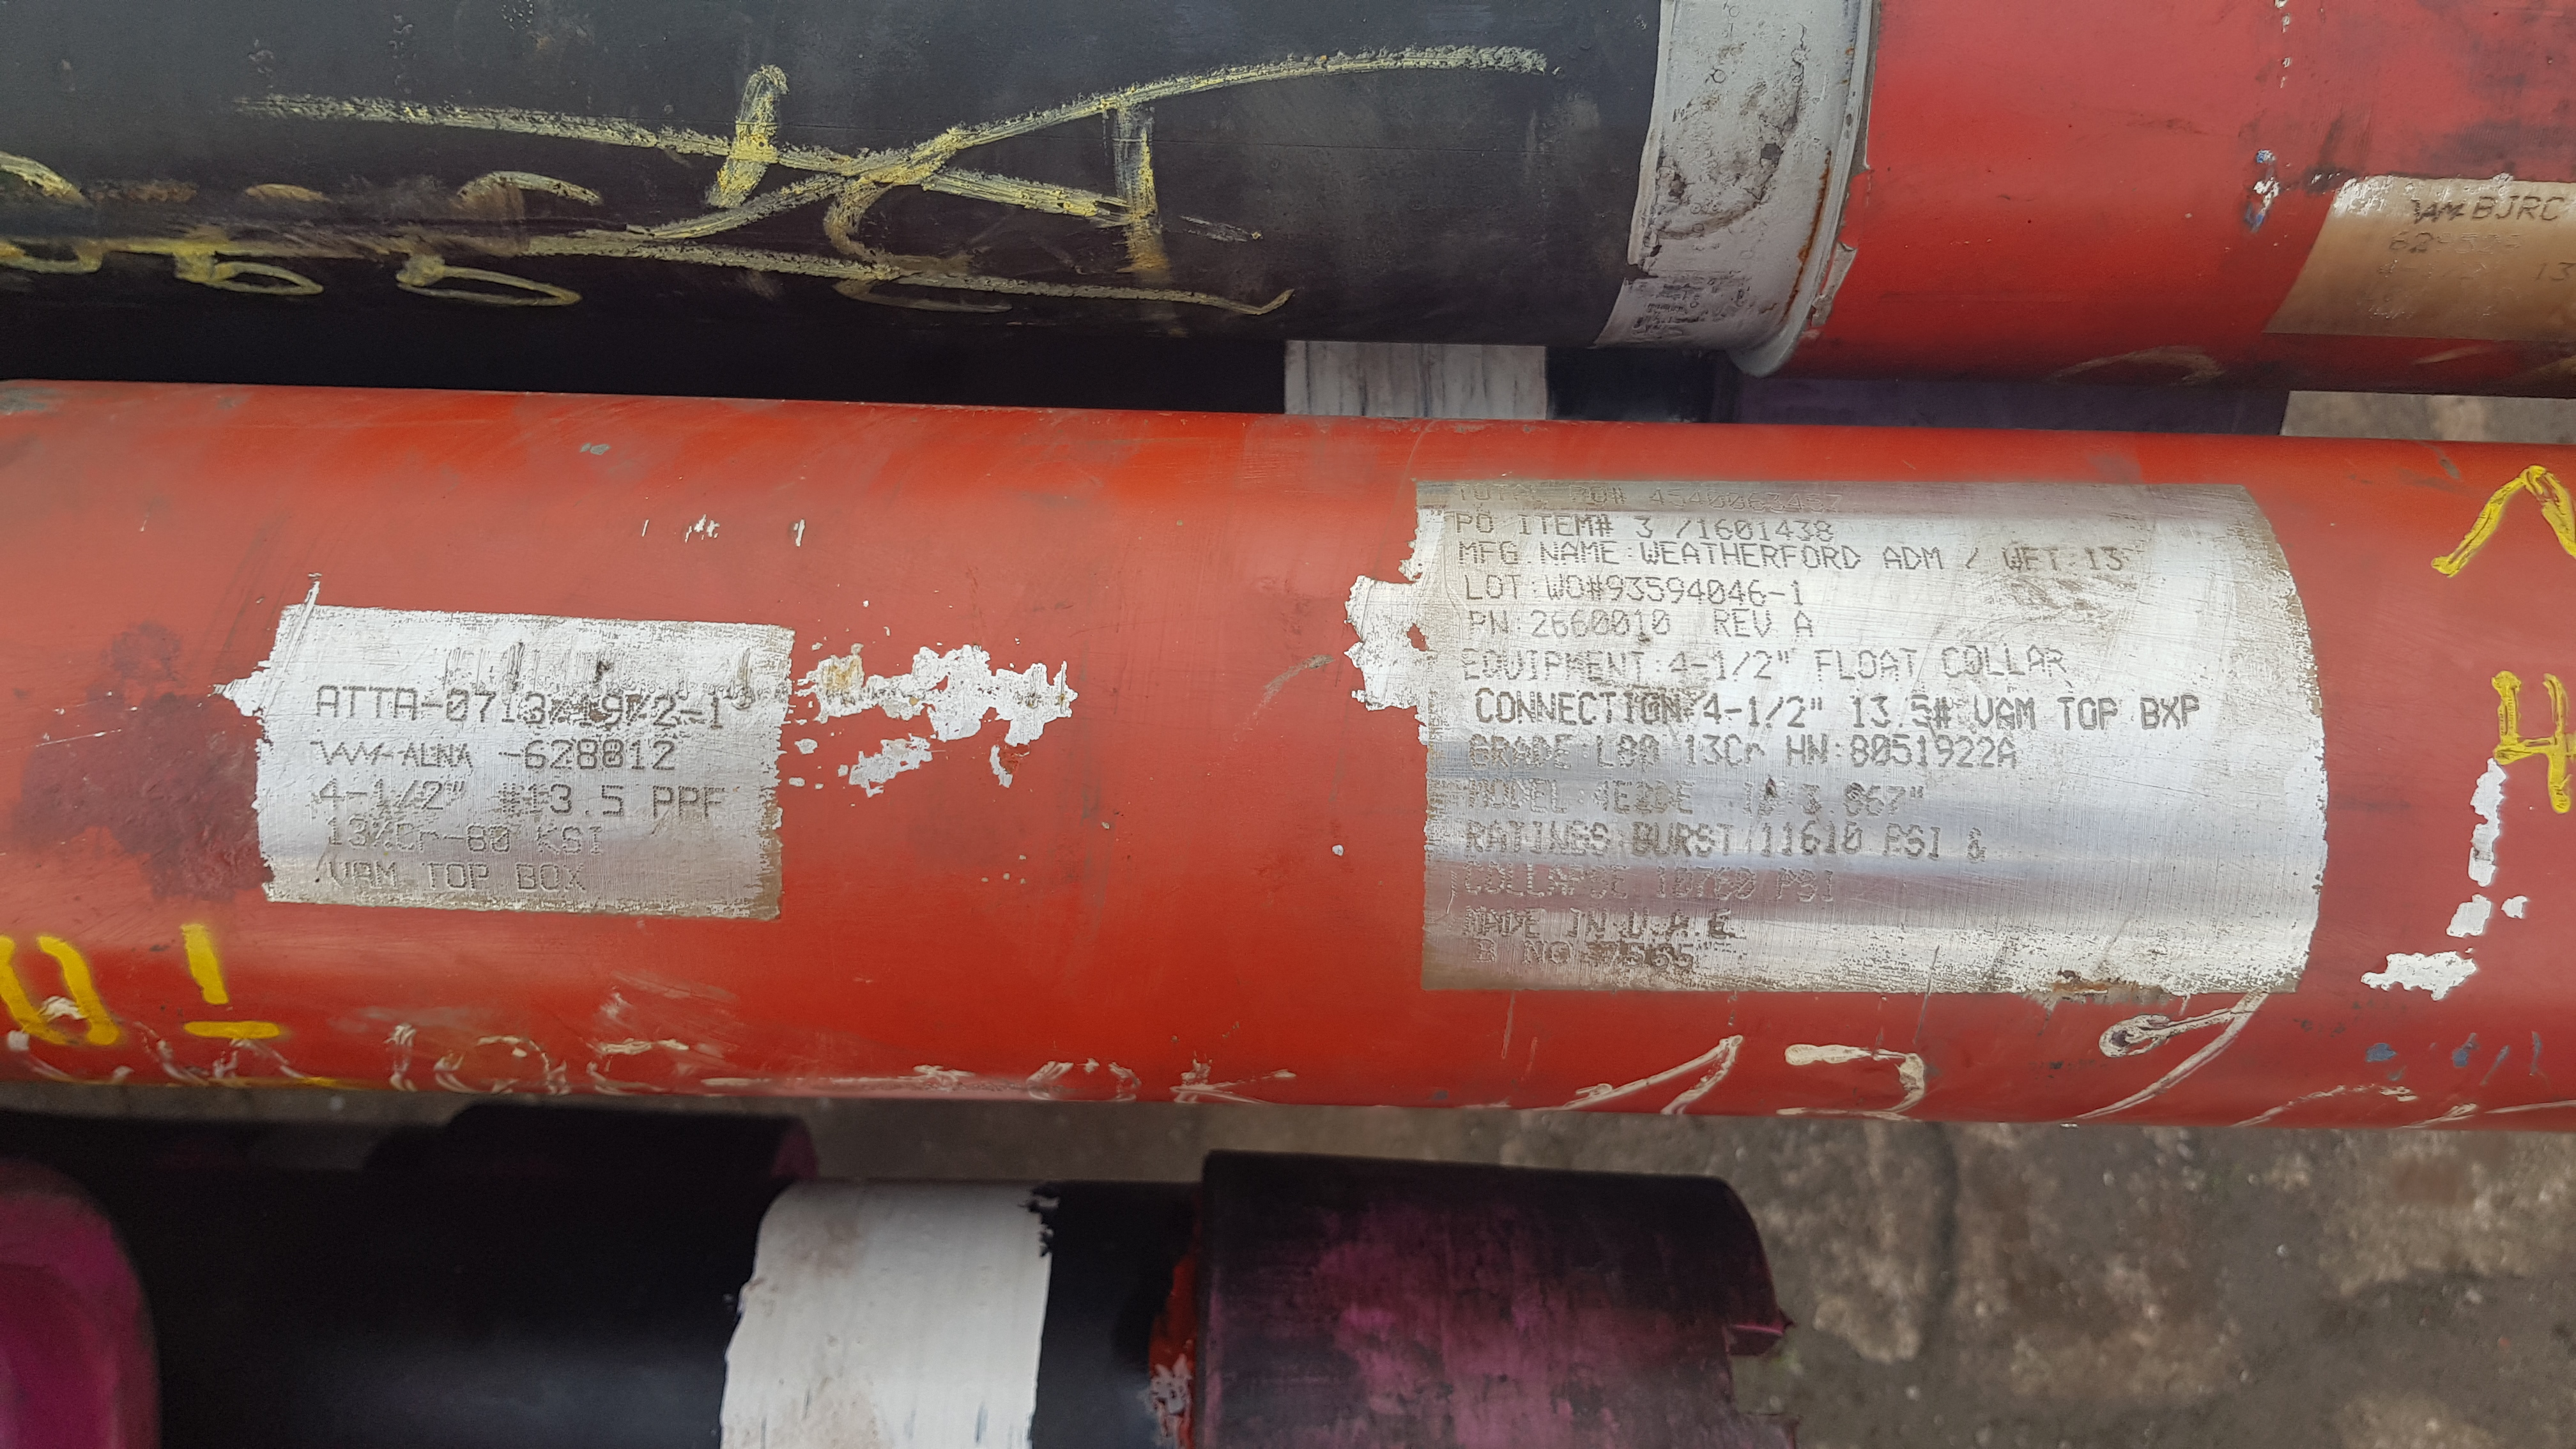character: (311, 676, 341, 727), (547, 686, 579, 731), (699, 782, 731, 824), (340, 679, 368, 725), (596, 690, 626, 731), (368, 679, 396, 722), (446, 681, 474, 724), (469, 688, 499, 727), (315, 773, 345, 812), (518, 734, 547, 775), (598, 780, 626, 819), (2012, 695, 2040, 734), (508, 860, 540, 893), (561, 865, 596, 895), (1629, 819, 1654, 862), (1658, 688, 1684, 727), (396, 681, 421, 722), (625, 690, 649, 731), (1553, 688, 1578, 729), (1552, 731, 1576, 771), (1605, 860, 1629, 901), (1713, 865, 1737, 906), (522, 690, 550, 725), (518, 780, 547, 816), (649, 782, 676, 819), (372, 817, 398, 855), (1969, 694, 1996, 731), (1805, 732, 1831, 770), (1706, 906, 1732, 943), (2095, 695, 2120, 734), (1890, 731, 1914, 770), (1799, 780, 1824, 819), (1734, 865, 1759, 904), (1626, 904, 1651, 943), (421, 780, 449, 814), (485, 823, 513, 856), (548, 780, 575, 816), (536, 823, 563, 858), (1840, 819, 1867, 855), (575, 690, 598, 731), (653, 690, 676, 731), (1932, 732, 1955, 773), (1548, 778, 1571, 819), (1458, 646, 1483, 683), (1500, 646, 1525, 683), (1580, 648, 1605, 685), (1686, 646, 1711, 683), (1706, 648, 1730, 685), (1727, 646, 1752, 683), (1810, 646, 1835, 683), (1960, 644, 1985, 681), (2042, 642, 2066, 679), (1474, 686, 1499, 724), (1868, 692, 1893, 729), (2158, 694, 2183, 731), (1546, 821, 1571, 858), (1713, 821, 1737, 858), (678, 780, 701, 819), (396, 819, 419, 858), (2075, 694, 2098, 732), (1592, 732, 1615, 771), (1615, 732, 1638, 771), (1467, 773, 1490, 812), (1631, 778, 1654, 817), (1842, 782, 1865, 821), (1463, 817, 1486, 856), (1589, 817, 1612, 856), (1799, 819, 1822, 858), (1585, 862, 1608, 901), (1532, 692, 1559, 725), (550, 738, 575, 773), (1513, 690, 1537, 725), (1783, 694, 1808, 729), (1465, 734, 1490, 770), (1509, 736, 1534, 771), (1973, 736, 1997, 771), (1672, 778, 1697, 814), (1884, 784, 1909, 819), (1460, 862, 1484, 897), (1794, 869, 1819, 904), (1674, 941, 1698, 977), (1527, 773, 1548, 814), (1654, 777, 1675, 817), (1693, 863, 1714, 904), (1481, 646, 1504, 683), (1520, 646, 1543, 683), (1541, 648, 1564, 685), (1562, 648, 1585, 685), (1605, 648, 1628, 685), (1626, 649, 1649, 686), (1665, 646, 1688, 683), (1750, 646, 1773, 683), (1833, 646, 1856, 683), (1854, 646, 1877, 683), (1875, 644, 1898, 681), (1897, 644, 1920, 681), (1941, 644, 1964, 681), (1980, 640, 2003, 678), (2003, 639, 2026, 676), (2024, 639, 2047, 676), (1994, 695, 2017, 732), (2056, 695, 2079, 732), (1488, 732, 1511, 770), (1637, 734, 1660, 771), (1720, 734, 1743, 771), (1953, 734, 1976, 771), (1996, 736, 2019, 773), (1651, 823, 1674, 860), (1693, 821, 1716, 858), (1881, 821, 1904, 858), (1502, 862, 1525, 899), (651, 743, 678, 775), (497, 782, 522, 816), (556, 830, 589, 855), (1902, 824, 1927, 858), (1667, 908, 1691, 941), (2137, 694, 2158, 732), (1486, 817, 1507, 856), (455, 741, 478, 777), (1909, 692, 1932, 727), (1930, 694, 1953, 729), (1506, 817, 1529, 853), (1568, 821, 1591, 856), (1966, 826, 1989, 862), (1545, 863, 1568, 899), (1672, 865, 1695, 901), (1458, 575, 1488, 602), (1614, 777, 1633, 817), (395, 775, 416, 812), (350, 814, 372, 851), (584, 826, 609, 858), (350, 855, 375, 886), (2178, 694, 2199, 731), (1530, 732, 1552, 770), (1863, 782, 1884, 819), (1672, 821, 1693, 858), (1566, 863, 1587, 901), (1587, 906, 1608, 943), (1486, 605, 1509, 639), (1587, 605, 1610, 639), (1626, 607, 1649, 640), (1711, 605, 1734, 639), (1750, 605, 1773, 639), (1638, 692, 1661, 725), (1783, 734, 1806, 768), (1523, 906, 1546, 939), (497, 690, 518, 725), (706, 695, 727, 731), (370, 775, 391, 810), (464, 863, 490, 892), (1762, 694, 1783, 729), (1679, 732, 1700, 768), (1914, 731, 1932, 773), (1925, 821, 1943, 863), (1525, 863, 1546, 899), (398, 738, 423, 768), (1603, 573, 1628, 603), (1622, 575, 1647, 605), (1640, 575, 1665, 605), (1661, 575, 1686, 605), (1681, 577, 1706, 607), (1704, 575, 1729, 605), (1723, 575, 1748, 605), (1785, 577, 1810, 607), (1509, 607, 1532, 639), (1608, 603, 1631, 635), (1732, 607, 1755, 639), (1548, 939, 1571, 971), (1649, 945, 1672, 977), (1592, 777, 1612, 814), (465, 821, 487, 855), (1467, 609, 1488, 642), (1550, 607, 1571, 640), (1790, 607, 1812, 640), (1578, 692, 1599, 725), (1849, 734, 1870, 768), (1488, 777, 1509, 810), (1483, 862, 1504, 895), (1463, 902, 1484, 936), (1656, 541, 1683, 568), (1675, 540, 1702, 566), (1697, 540, 1723, 566), (1714, 540, 1741, 566), (1775, 543, 1801, 570), (1819, 543, 1845, 570), (1879, 545, 1905, 571), (1897, 543, 1923, 570), (1920, 543, 1946, 570), (1960, 545, 1987, 571), (2020, 543, 2047, 570), (2079, 543, 2105, 570), (373, 860, 402, 885), (1575, 538, 1603, 563), (1637, 540, 1665, 564), (603, 738, 626, 768), (329, 858, 352, 888), (444, 860, 467, 890), (1743, 577, 1766, 607), (1743, 740, 1766, 770), (1497, 688, 1514, 727), (1598, 690, 1617, 725), (1702, 690, 1721, 725), (1741, 695, 1760, 731), (1702, 732, 1721, 768), (1870, 732, 1890, 768), (1507, 777, 1527, 812), (1776, 867, 1794, 906), (577, 738, 598, 770), (1529, 607, 1550, 639), (1566, 607, 1587, 639), (1649, 607, 1670, 639), (536, 865, 563, 890), (1739, 541, 1764, 568), (1757, 545, 1783, 570), (1796, 545, 1822, 570), (1838, 543, 1863, 570), (1999, 545, 2026, 570), (2040, 545, 2065, 571), (2102, 543, 2127, 570), (1483, 575, 1507, 602), (1502, 573, 1527, 600), (1541, 573, 1566, 600), (1562, 575, 1587, 602), (1583, 575, 1608, 602), (1529, 821, 1546, 858), (630, 738, 649, 771), (1504, 906, 1523, 939), (1566, 906, 1585, 939), (1603, 939, 1622, 973), (322, 817, 345, 846), (1523, 941, 1546, 970), (1483, 906, 1504, 936), (421, 736, 439, 771), (1619, 692, 1638, 724), (1849, 697, 1868, 729), (1780, 821, 1796, 860), (1654, 863, 1670, 902), (433, 743, 456, 770), (1474, 511, 1497, 538), (1810, 518, 1836, 541), (1497, 540, 1523, 563), (1536, 540, 1562, 563), (425, 860, 442, 893), (1822, 821, 1838, 858), (1822, 867, 1836, 908), (1633, 513, 1656, 538), (1456, 540, 1479, 564), (1591, 511, 1612, 538), (1628, 939, 1645, 971), (1555, 511, 1575, 540), (1711, 517, 1734, 540), (416, 826, 437, 851), (1514, 513, 1536, 538), (1573, 513, 1594, 538), (1732, 520, 1757, 541), (1760, 821, 1775, 858), (1477, 540, 1497, 566), (1771, 520, 1794, 541), (1599, 540, 1621, 563), (1454, 511, 1474, 536), (1693, 517, 1713, 541), (679, 706, 706, 724), (1794, 518, 1812, 545), (345, 784, 370, 801), (1753, 518, 1773, 540), (1560, 541, 1580, 563), (419, 697, 444, 713), (1677, 515, 1693, 540), (444, 830, 465, 847), (497, 747, 522, 761), (1539, 511, 1553, 536), (1723, 704, 1743, 717)
